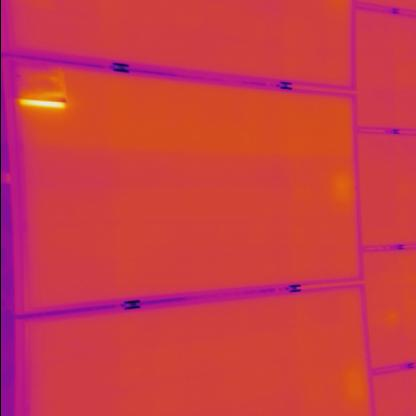hotspot: (17, 62, 68, 114)
